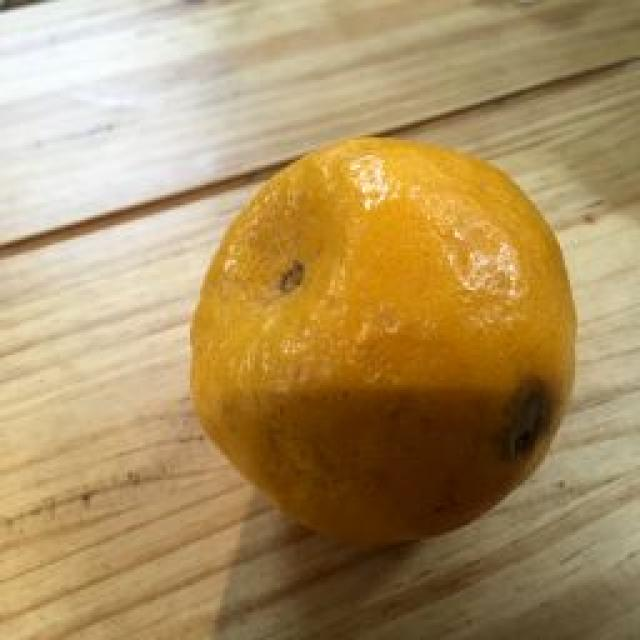Wet: (180, 132, 578, 542)
